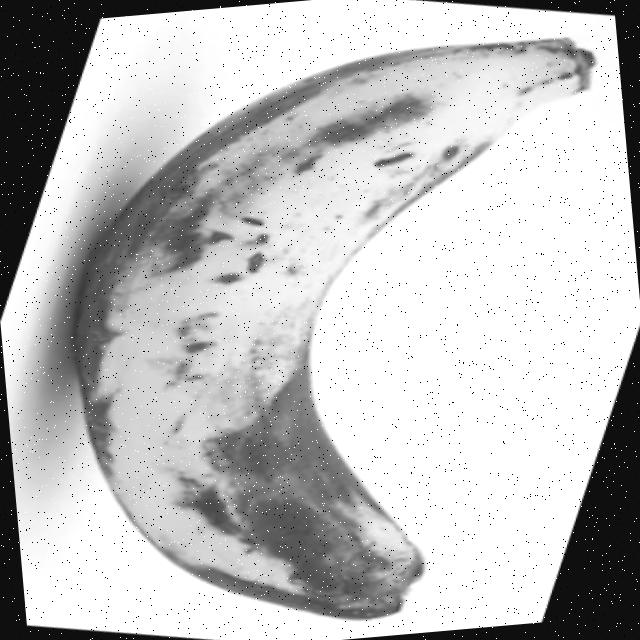overripe: (45, 26, 640, 640)
